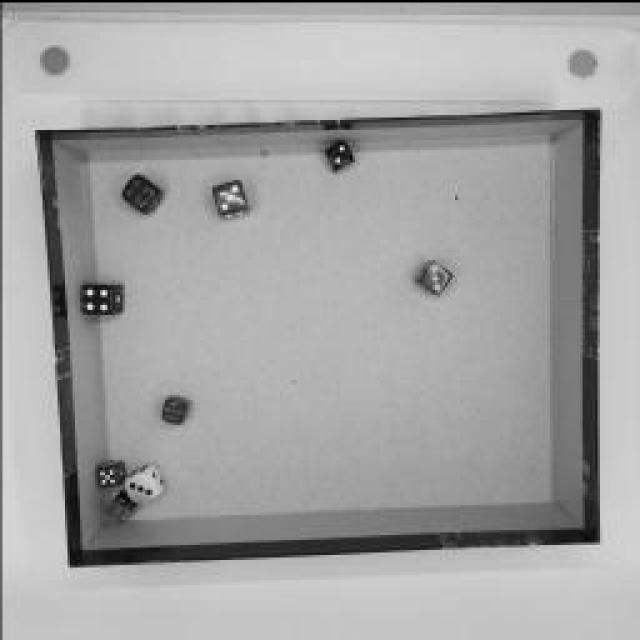dice_2: (323, 136, 355, 169)
dice_3: (209, 171, 249, 219), (416, 255, 454, 293), (124, 461, 158, 501)
dice_4: (120, 169, 162, 211), (80, 277, 122, 315)
dice_5: (95, 455, 125, 485)
dice_6: (158, 391, 188, 424), (106, 491, 132, 521)
